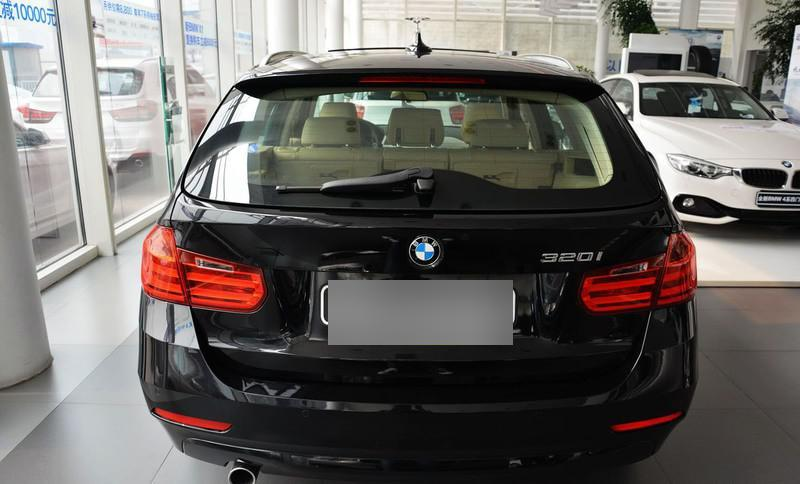Wagon: (138, 31, 699, 484)
